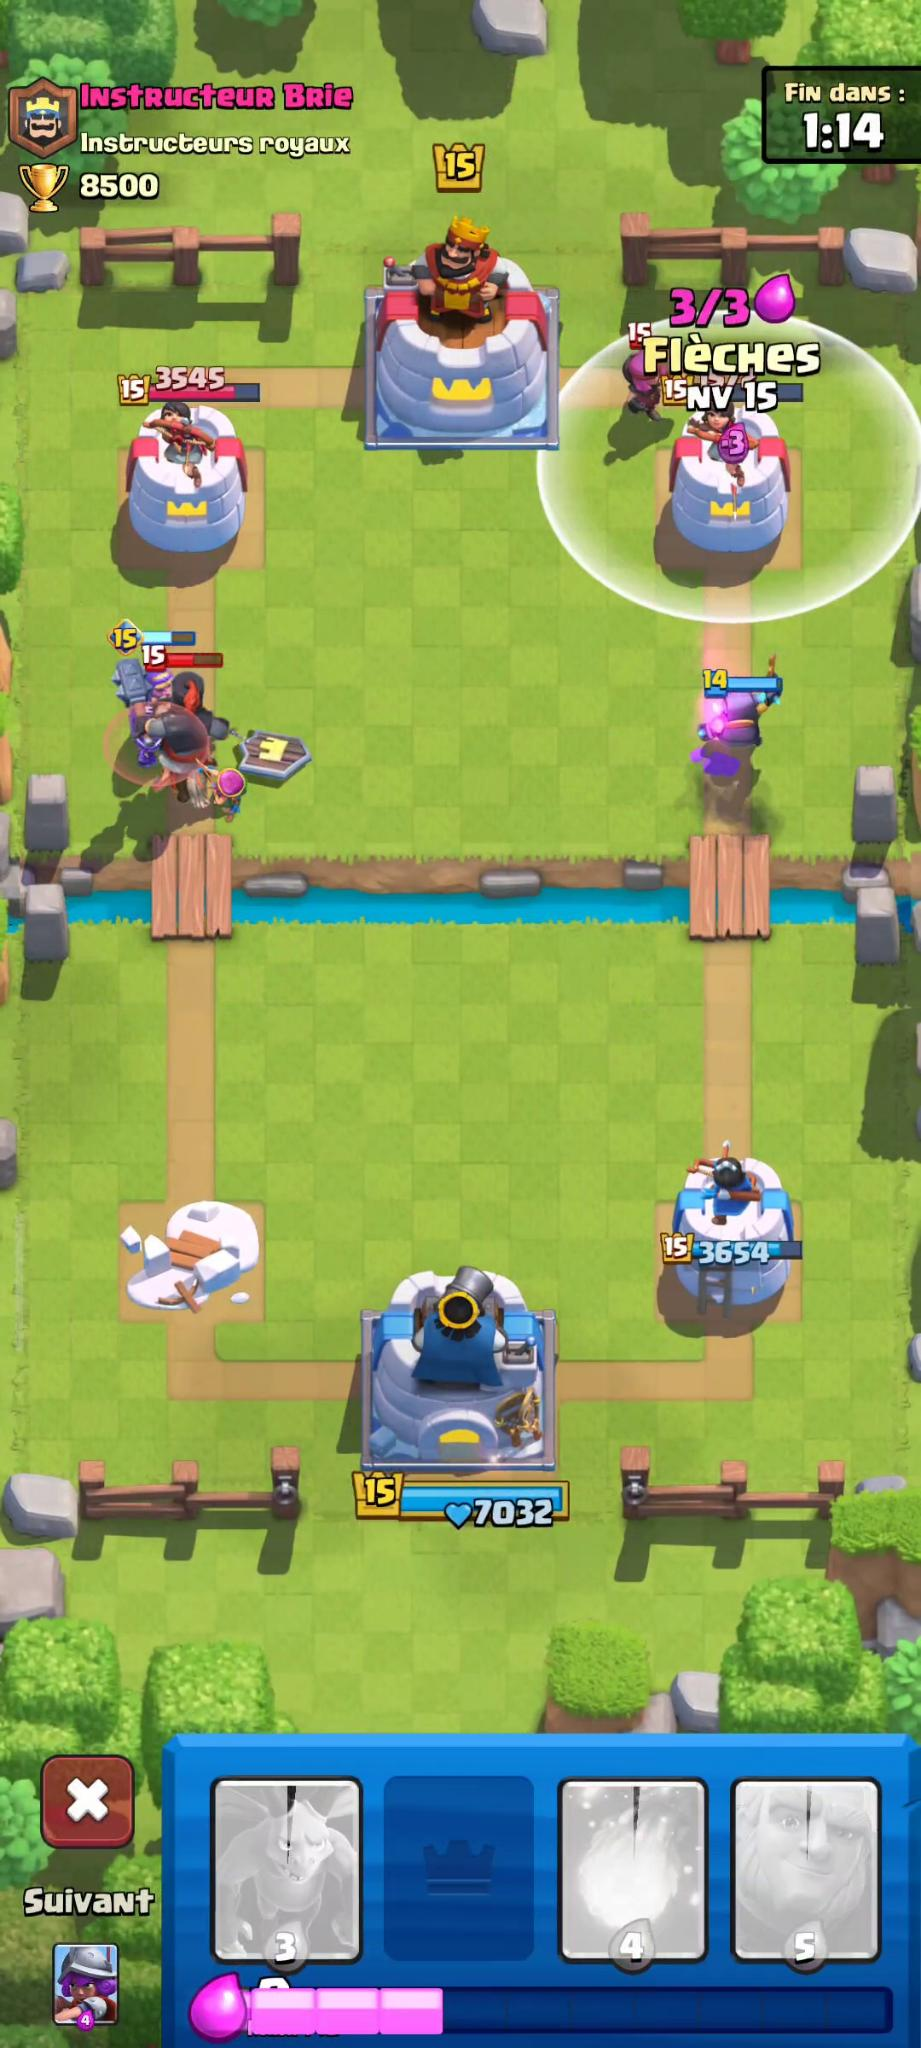archere: (180, 758, 263, 816)
chevalier: (98, 610, 197, 769)
mini_PEKKA: (688, 649, 800, 788)
